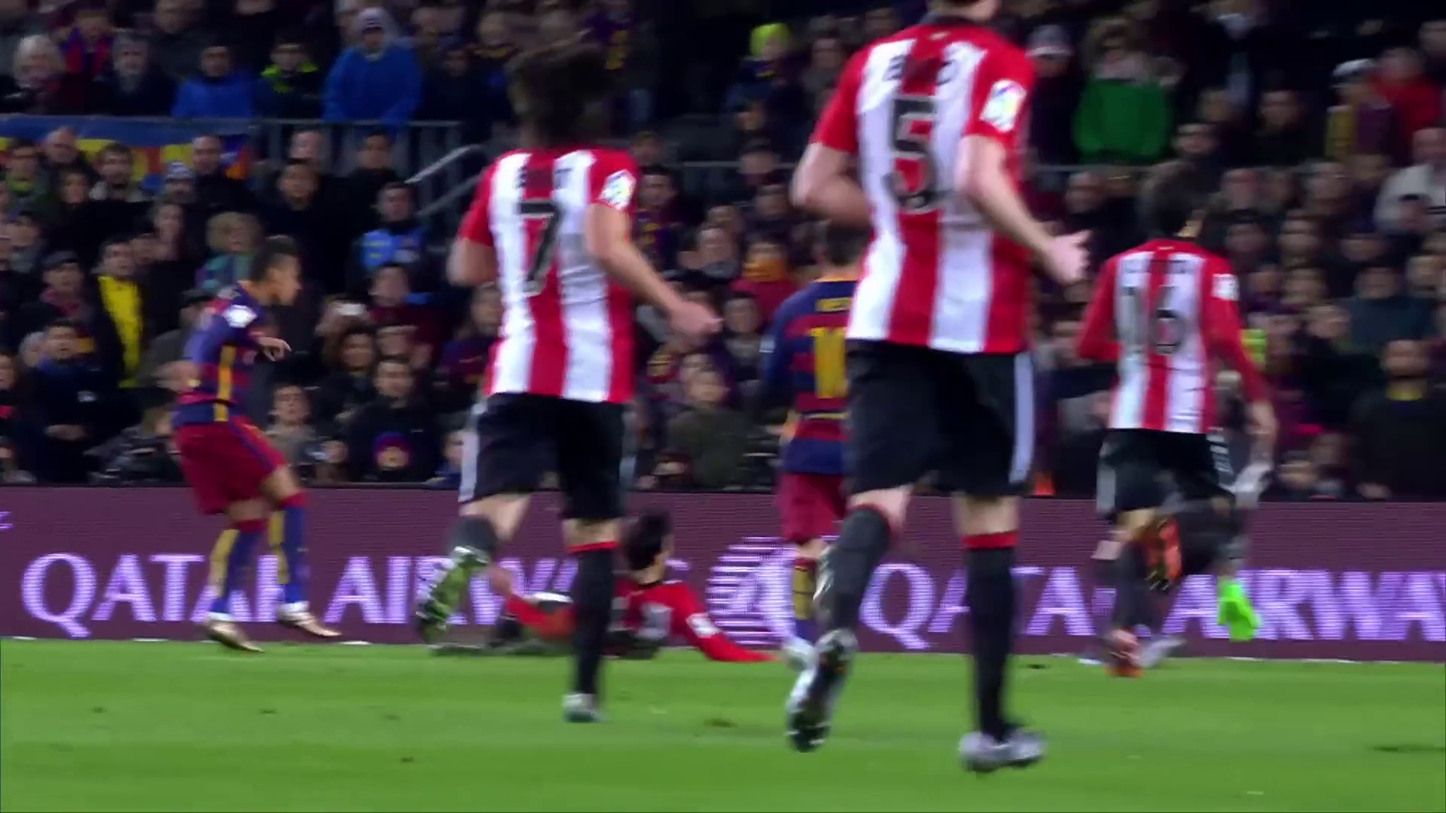player: (785, 3, 1095, 779), (413, 103, 705, 672), (1051, 170, 1279, 687), (123, 232, 339, 656), (421, 499, 776, 665), (756, 219, 872, 658)
